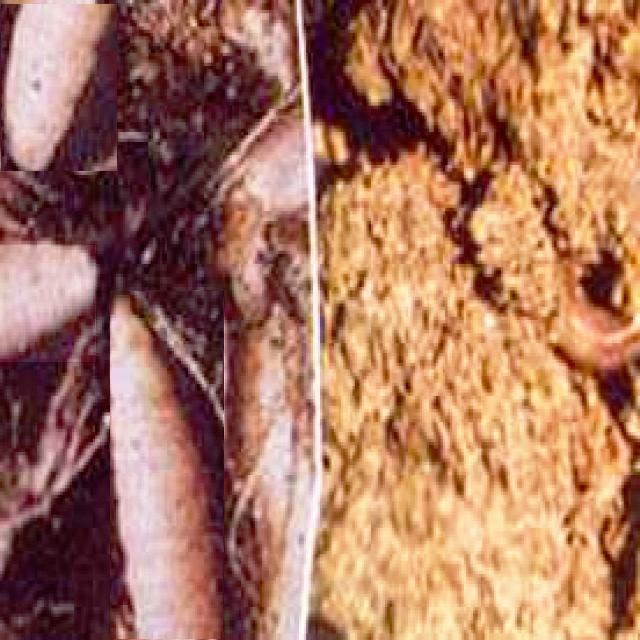whorl-maggot: (110, 292, 224, 638), (1, 5, 117, 170), (0, 246, 96, 362)
